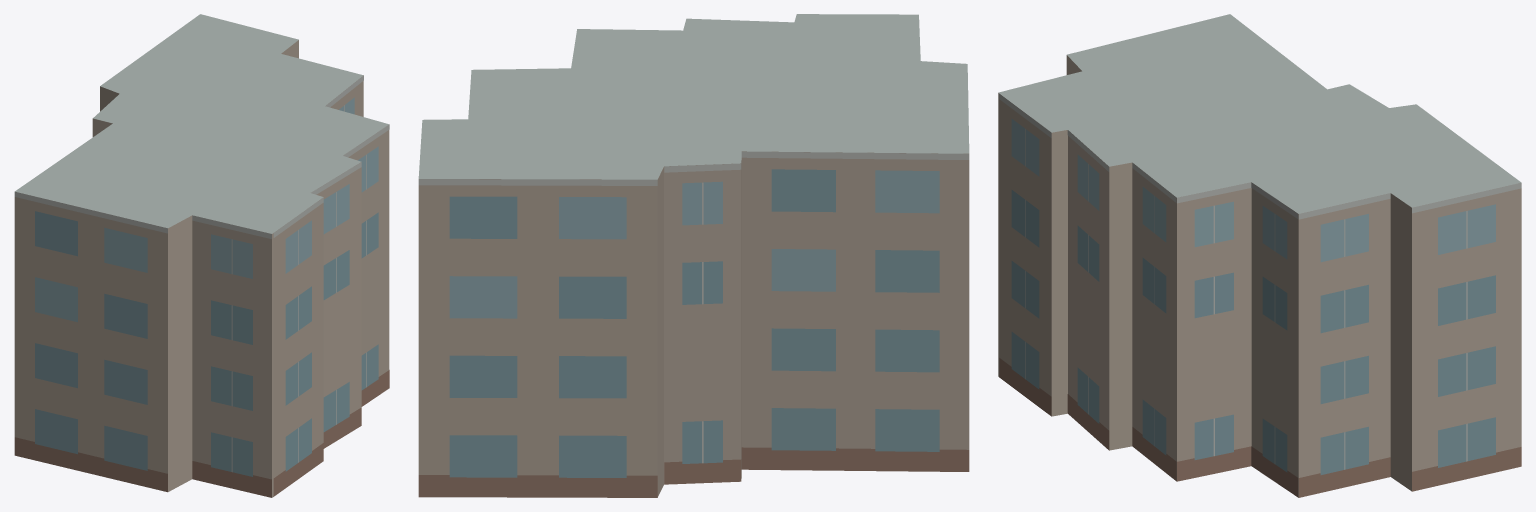
Rendered from survey-upis-32733334.glb.
3 renders of one model, left to right at view 1: azimuth 30°, elevation 25°; view 2: azimuth 150°, elevation 25°; view 3: azimuth 270°, elevation 25°, orthographic. The views are drawn at different scales.
Parts seen in each view (by area): view 1: survey-upis-32733334.tmp; view 2: survey-upis-32733334.tmp; view 3: survey-upis-32733334.tmp.
Boxes of the visible parts, x1,y1,x2,y2 form: survey-upis-32733334.tmp: [14, 14, 389, 497]; survey-upis-32733334.tmp: [418, 14, 969, 497]; survey-upis-32733334.tmp: [998, 14, 1521, 497].
Size of the model in its own units: 18.44 by 12.2 by 20.39.
